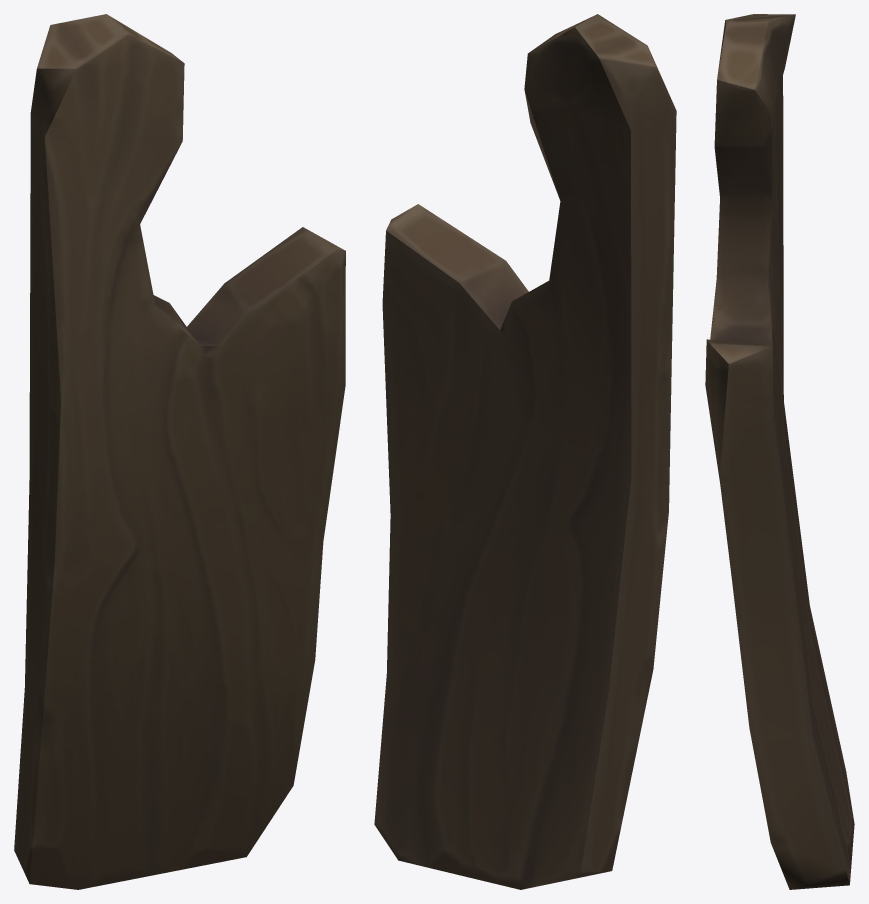
Rendered from SM_FW01_BarrelDebris_02.fbx.
3 renders of one model, left to right at view 1: azimuth 30°, elevation 25°; view 2: azimuth 150°, elevation 25°; view 3: azimuth 270°, elevation 25°, orthographic. The views are drawn at different scales.
Parts seen in each view (by area): view 1: SM_FW01_BarrelDebris_02_LOD0; view 2: SM_FW01_BarrelDebris_02_LOD0; view 3: SM_FW01_BarrelDebris_02_LOD0.
Boxes of the visible parts, x1,y1,x2,y2 form: SM_FW01_BarrelDebris_02_LOD0: (14,14,345,889); SM_FW01_BarrelDebris_02_LOD0: (374,14,676,889); SM_FW01_BarrelDebris_02_LOD0: (705,14,854,889).
Size of what is drawn, in the model's own units: 0.2977 by 0.8366 by 0.1411.
